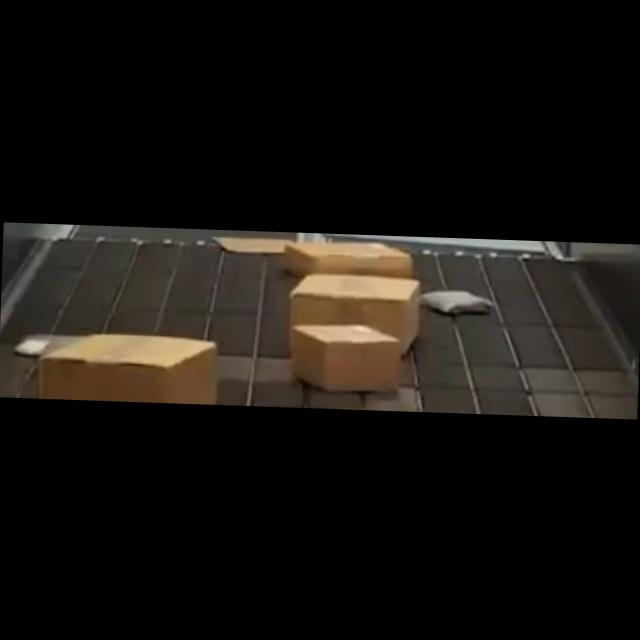box: (38, 331, 220, 404), (288, 272, 422, 352), (287, 321, 398, 395), (282, 237, 412, 283)
mailer: (212, 232, 298, 255), (16, 332, 90, 356), (422, 288, 489, 314)
